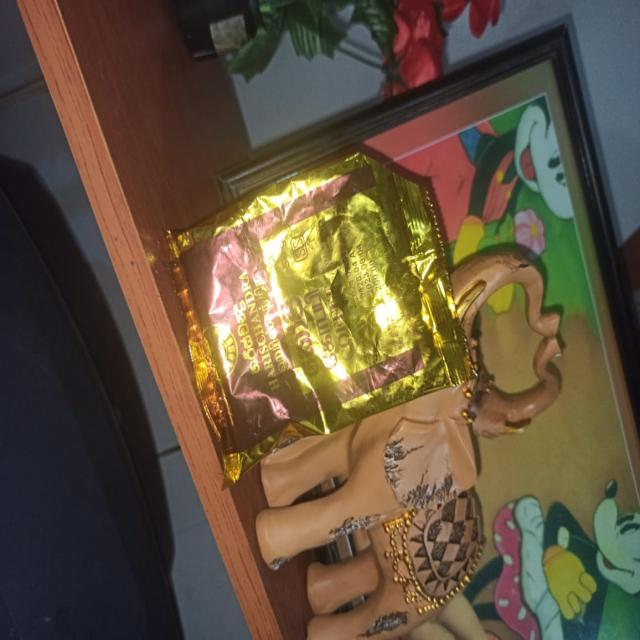Harischandra Coffee: (171, 178, 474, 456)
